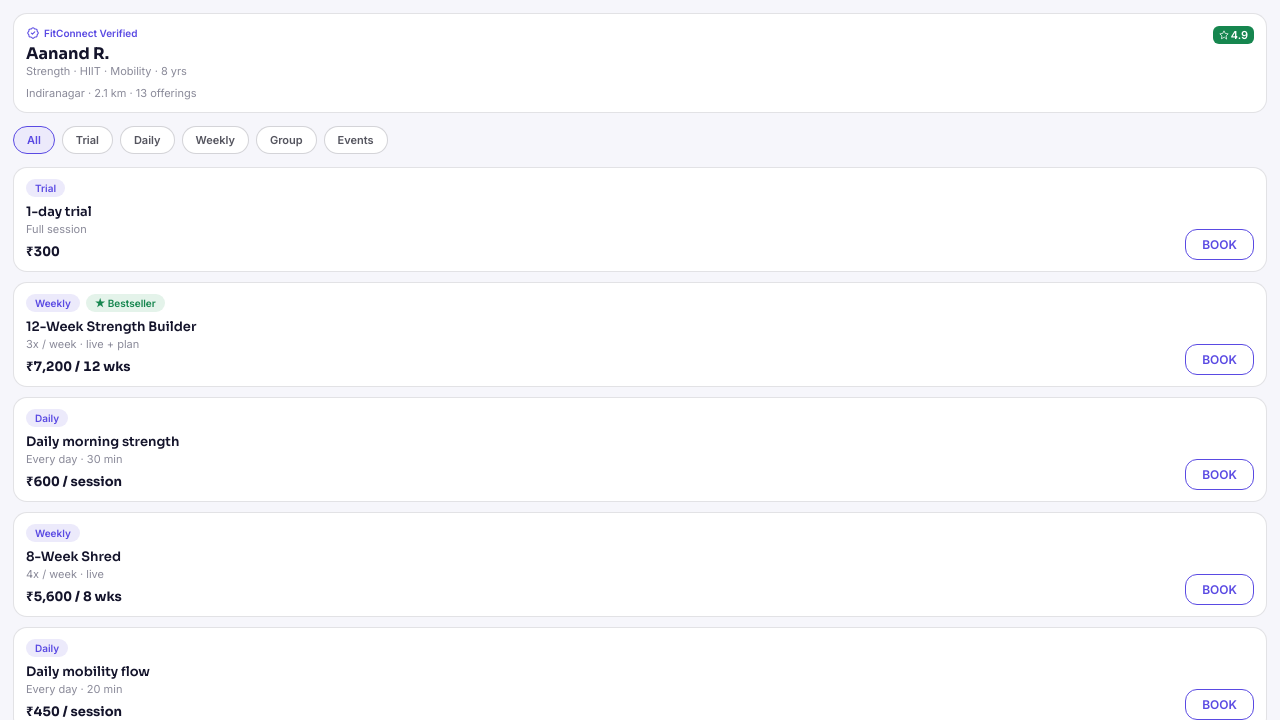
Scenario: TrainerScreen › filters offerings by type
This screenshot has width=1280, height=720.
Click the button "Trial" at x=87, y=140, box [62,126,113,154]
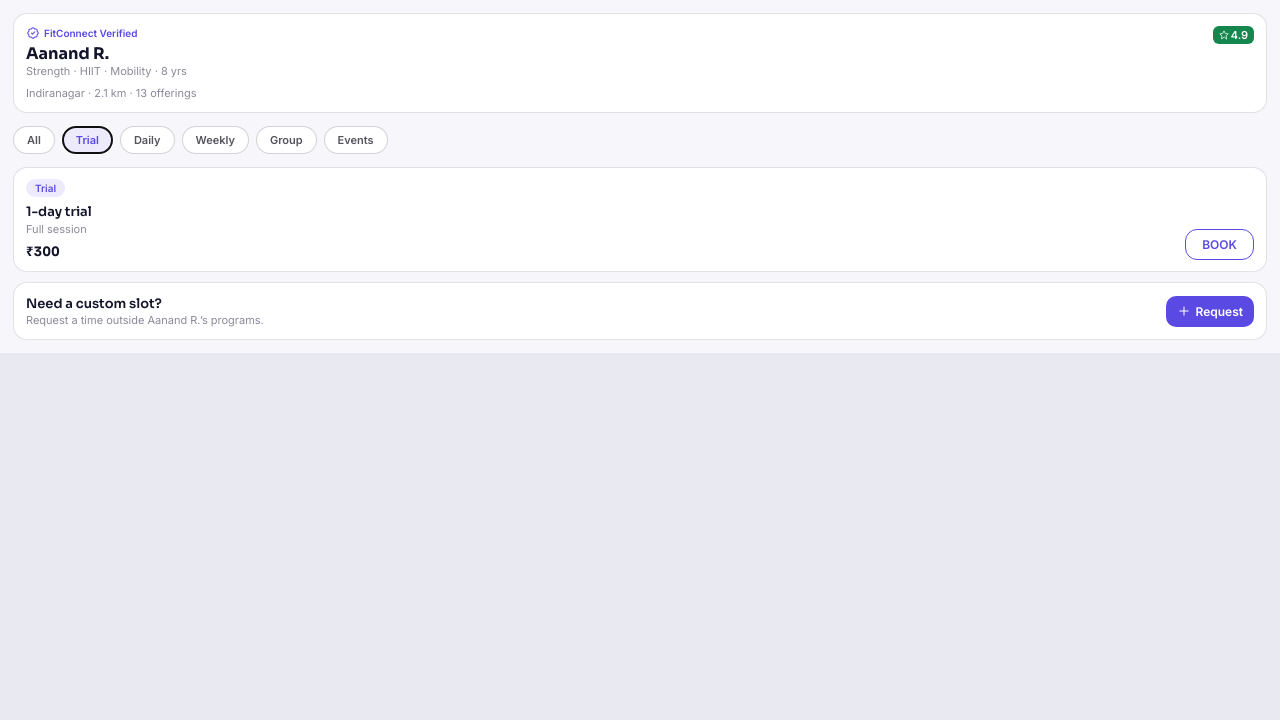
Expected: the text "1-day trial" is shown, [26,203,92,220]
Expected: the text "12-Week Strength Builder" is gone
